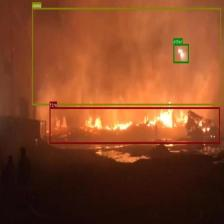fire: (49, 107, 220, 144)
smoke: (32, 7, 221, 105)
